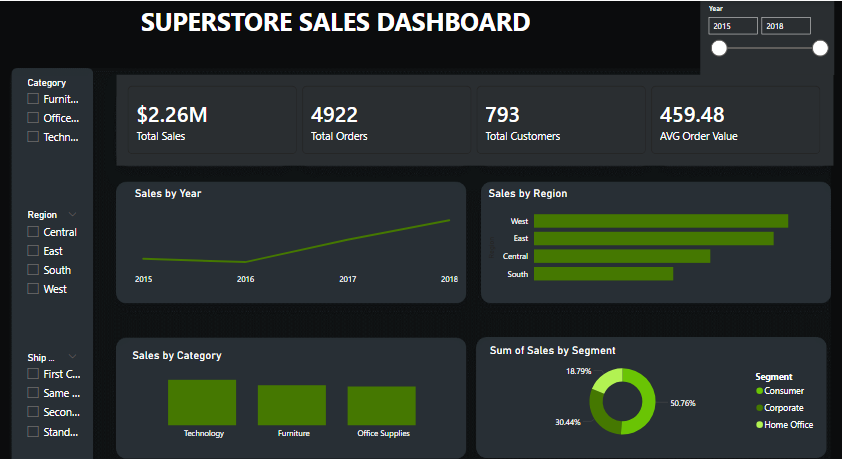

The dashboard page shown, as its layout file describes it:
{"tool":"powerbi","page":{"name":"Overview","canvas":[1280,720],"ordinal":0},"visuals":[{"type":"lineChart","title":"Sales by Year","fields":{"Y":["Sum(train.Sales)"],"Category":["train.Order Date.Variation.Date Hierarchy.Year"]},"box":[199.6,279.4,499,159.7],"z":0},{"type":"clusteredBarChart","title":"Sales by Region","fields":{"Category":["train.Region"],"Y":["Sum(train.Sales)"]},"box":[735.1,279.4,512.3,159.7],"z":1000},{"type":"donutChart","fields":{"Category":["train.Segment"],"Y":["Sum(train.Sales)"]},"box":[738.5,518.9,508.9,156.3],"z":2000},{"type":"clusteredColumnChart","title":"Sales by Category","fields":{"Category":["train.Category"],"Y":["Sum(train.Sales)"]},"box":[196.3,525.6,499,146.4],"z":3000},{"type":"cardVisual","fields":{"Data":["_Measures.Total Sales","_Measures.Total Orders","_Measures.Total Customers","_Measures.AVG Order Value"]},"box":[178.4,110.9,1085.2,137.5],"z":4000},{"type":"textbox","box":[0,0,1017.9,79.8],"z":5000},{"type":"slicer","fields":{"Values":["train.Category"]},"box":[29.9,109.8,99.8,169.6],"z":6000},{"type":"slicer","fields":{"Values":["train.Region"]},"box":[29.9,309.4,99.8,186.3],"z":7000},{"type":"slicer","fields":{"Values":["train.Order Date.Variation.Date Hierarchy.Year"]},"box":[1061,0,202.6,110.9],"z":8000},{"type":"slicer","fields":{"Values":["train.Ship Mode"]},"box":[29.9,525.6,99.8,156.3],"z":9000}]}

Visuals, with their boxes on the page's 1280x720 design canvas (x1, y1, x2, y2). These are canvas units, not pixel positions in the 842x459 screenshot, which may show the page scaled, cropped or inside an application window:
"Sales by Year" lineChart: bbox(200, 279, 699, 439)
"Sales by Region" clusteredBarChart: bbox(735, 279, 1247, 439)
donutChart - train.Segment x Sum(train.Sales): bbox(738, 519, 1247, 675)
"Sales by Category" clusteredColumnChart: bbox(196, 526, 695, 672)
cardVisual - _Measures.Total Sales x _Measures.Total Orders: bbox(178, 111, 1264, 248)
textbox: bbox(0, 0, 1018, 80)
slicer - train.Category: bbox(30, 110, 130, 279)
slicer - train.Region: bbox(30, 309, 130, 496)
slicer - train.Order Date.Variation.Date Hierarchy.Year: bbox(1061, 0, 1264, 111)
slicer - train.Ship Mode: bbox(30, 526, 130, 682)
